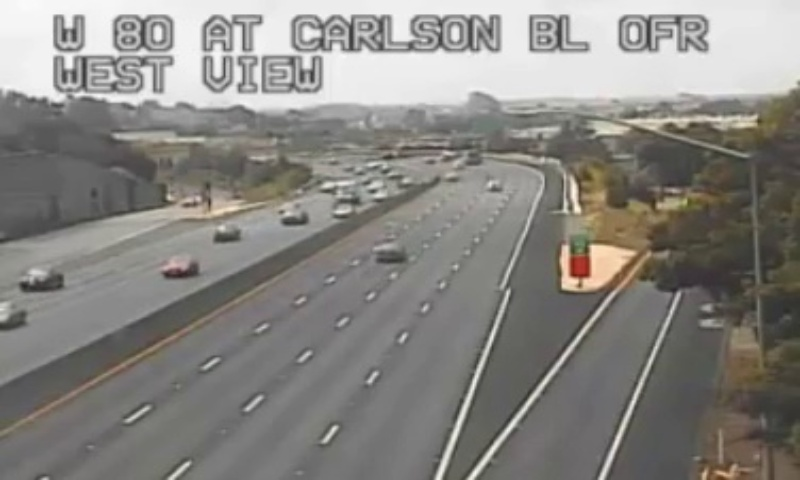car: (372, 241, 402, 261)
